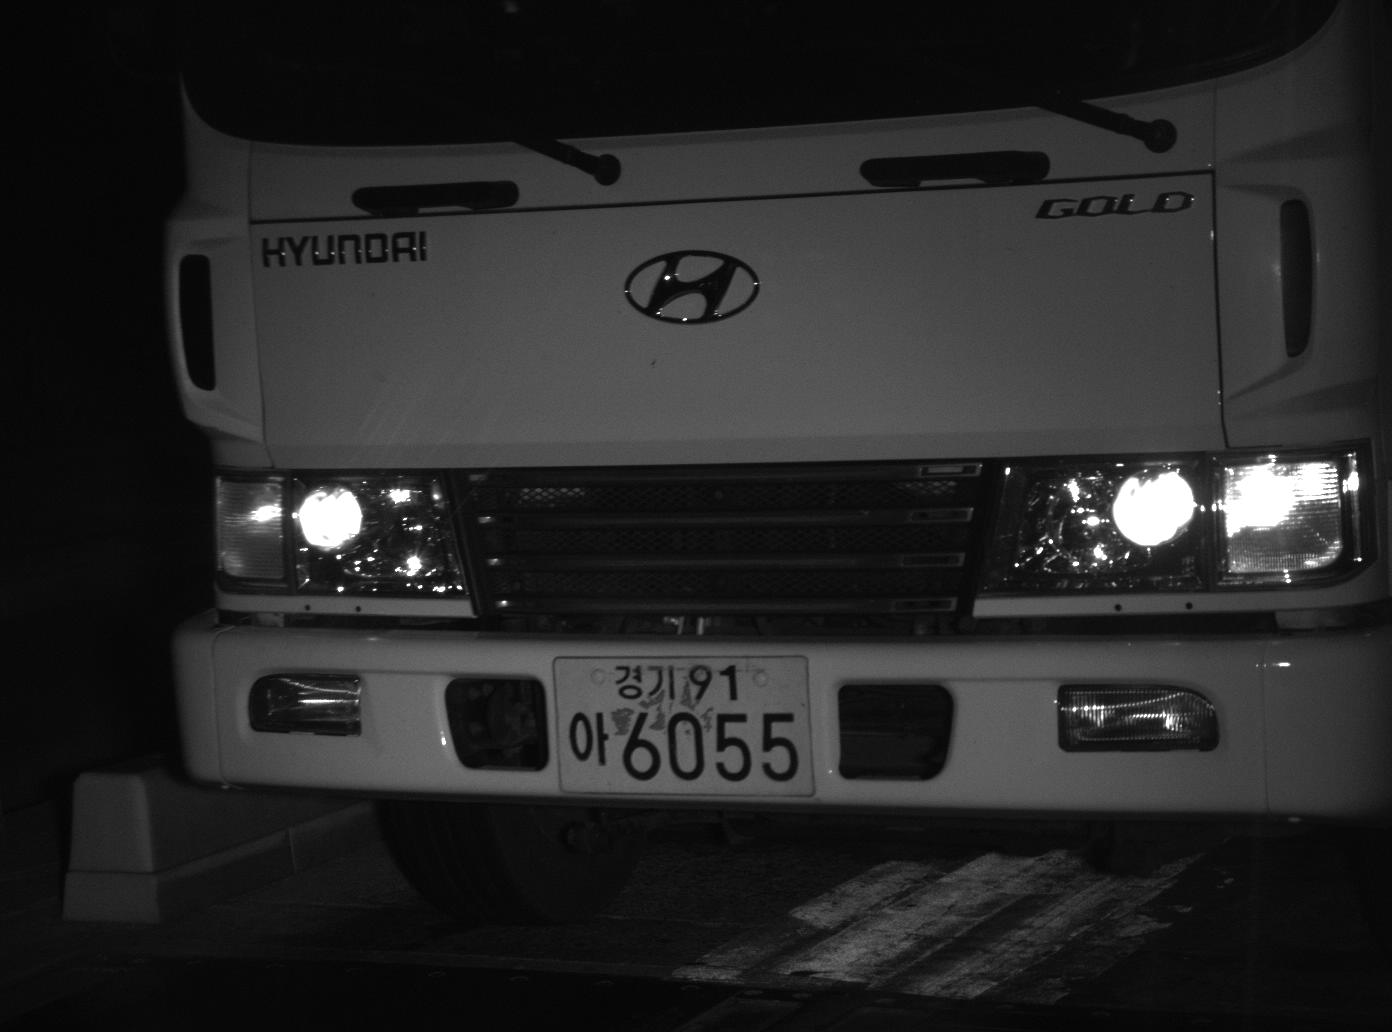car: (145, 1, 1389, 924)
plate: (550, 653, 815, 797)
